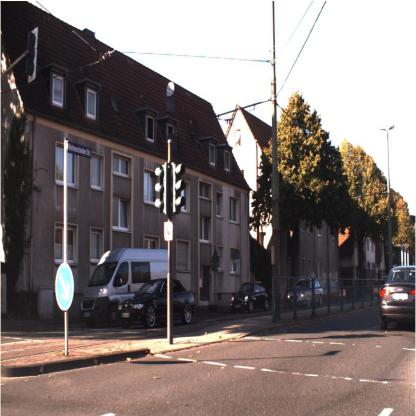danger: (52, 264, 78, 311)
